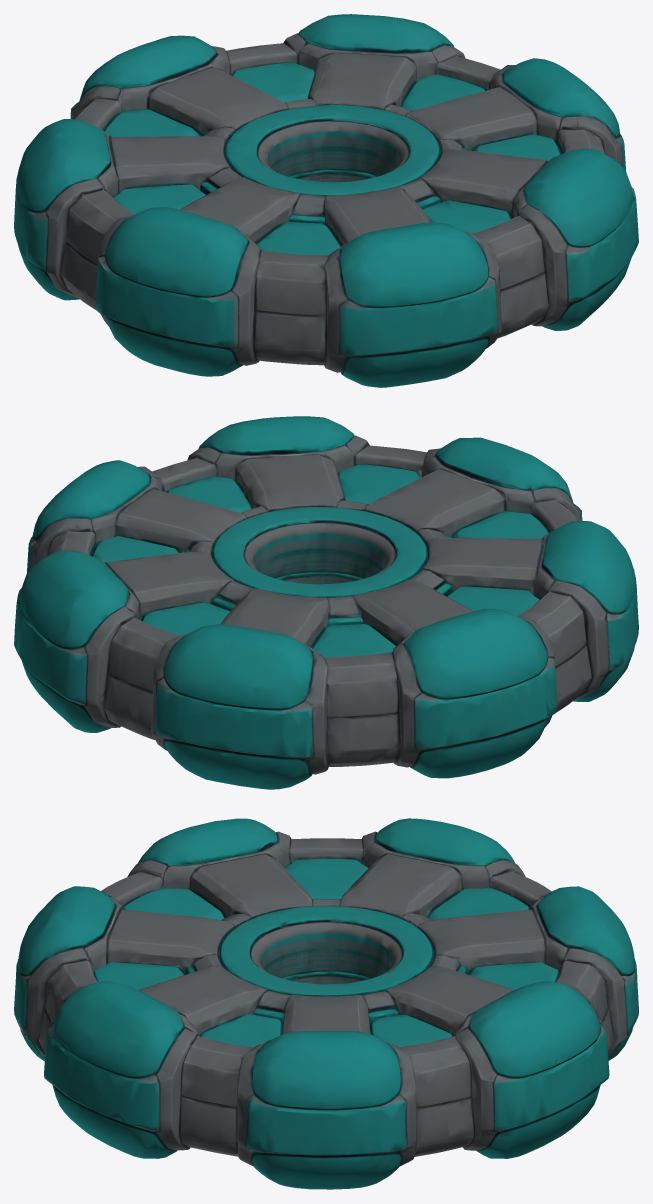
Rendered from blade_bastion.glb.
3 renders of one model, top to bottom at view 1: azimuth 30°, elevation 25°; view 2: azimuth 150°, elevation 25°; view 3: azimuth 270°, elevation 25°, orthographic.
Visible parts, largest first — view 1: tripo_node_1bf82e8c-9c66-457c-8b72-5a14c51f77ae; view 2: tripo_node_1bf82e8c-9c66-457c-8b72-5a14c51f77ae; view 3: tripo_node_1bf82e8c-9c66-457c-8b72-5a14c51f77ae.
Part boxes in pixels (left/top/right/bottom): tripo_node_1bf82e8c-9c66-457c-8b72-5a14c51f77ae: left=14, top=14, right=638, bottom=387; tripo_node_1bf82e8c-9c66-457c-8b72-5a14c51f77ae: left=14, top=416, right=638, bottom=789; tripo_node_1bf82e8c-9c66-457c-8b72-5a14c51f77ae: left=14, top=818, right=638, bottom=1189.
Size of the model in its own units: 0.9961 by 0.2647 by 1.
Materials: 1 (1 with a texture image).
